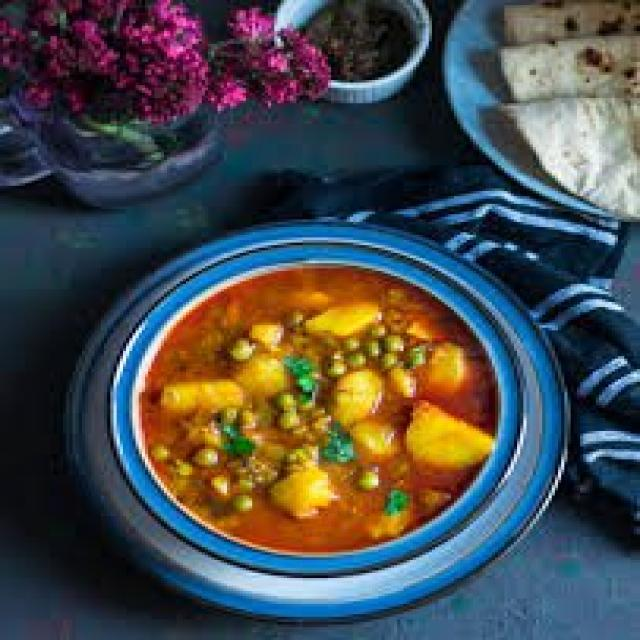Aloo Matar: (154, 276, 491, 541)
